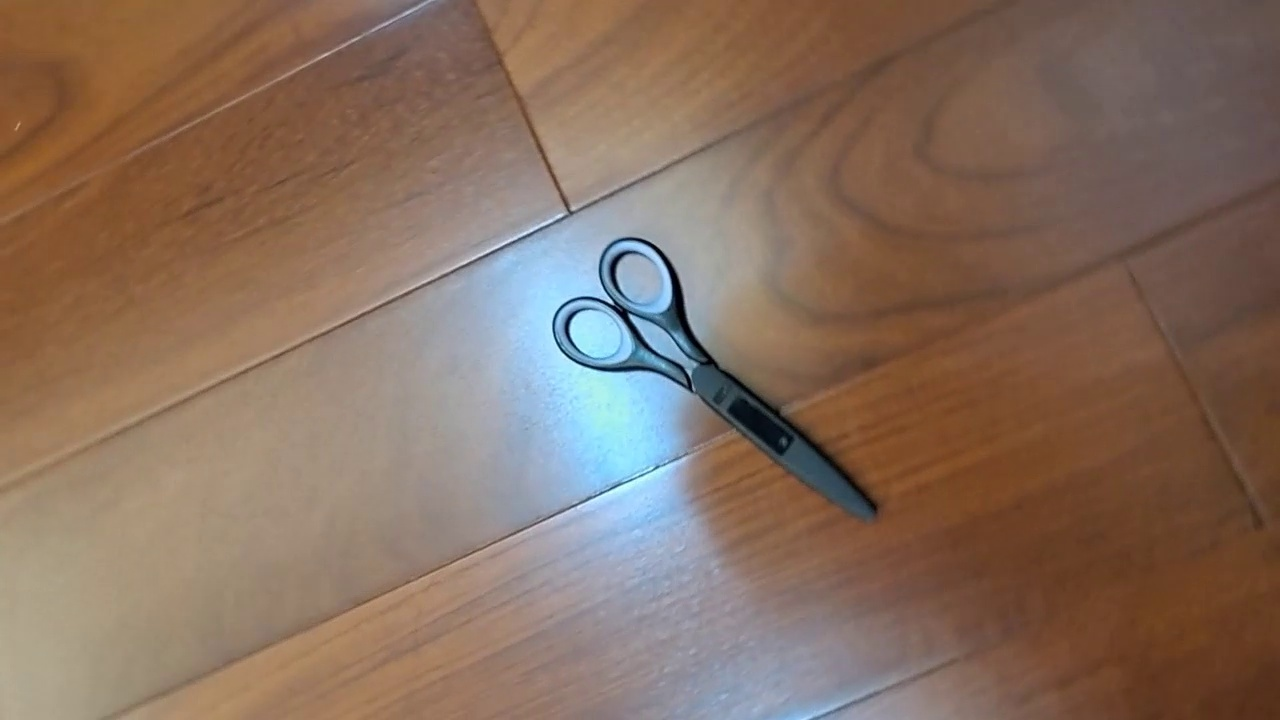scissors: (552, 236, 882, 527)
